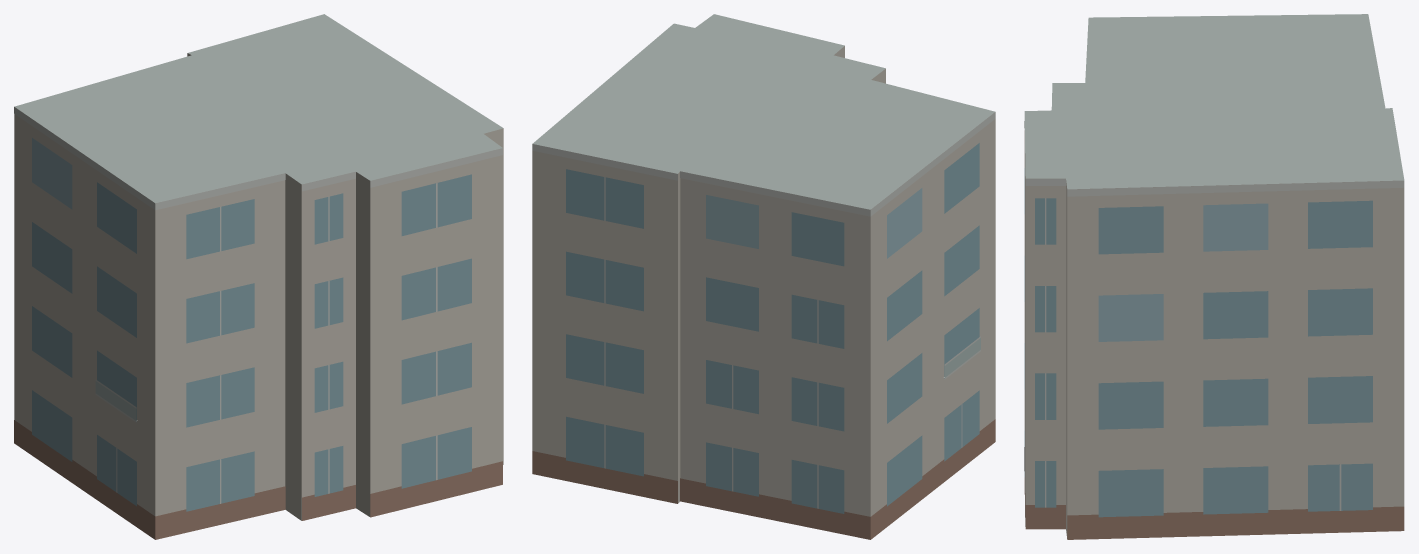
Rendered from survey-upis-32582483.glb.
3 views of the same model, side by side, from view 1: azimuth 30°, elevation 25°; view 2: azimuth 150°, elevation 25°; view 3: azimuth 270°, elevation 25° (orthographic). The views are drawn at different scales.
Visible parts, largest first — view 1: survey-upis-32582483.tmp; view 2: survey-upis-32582483.tmp; view 3: survey-upis-32582483.tmp.
Part boxes in pixels (x1=…): survey-upis-32582483.tmp: x1=14, y1=14, x2=503, y2=539; survey-upis-32582483.tmp: x1=532, y1=14, x2=995, y2=539; survey-upis-32582483.tmp: x1=1024, y1=14, x2=1404, y2=539.
Bounding box in the file's own units: 12.57 × 11.7 × 11.51.
